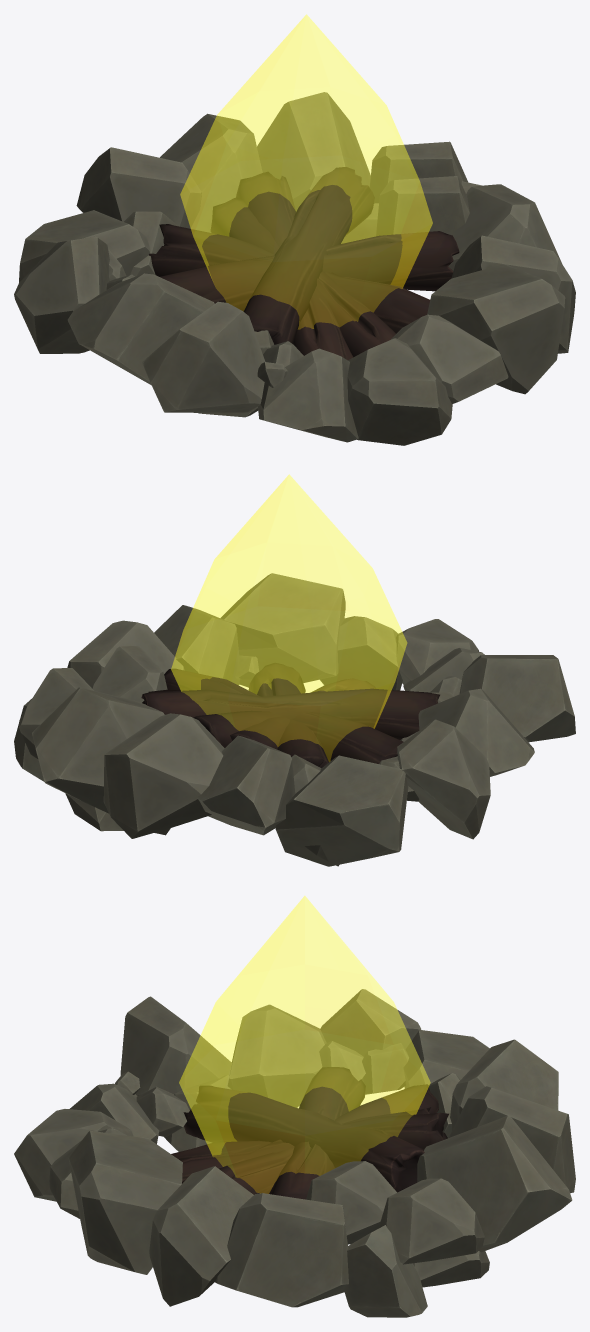
Rendered from Hoguera.glb.
The picture shows the model from 3 angles, top to bottom: view 1: azimuth 30°, elevation 25°; view 2: azimuth 150°, elevation 25°; view 3: azimuth 270°, elevation 25°; orthographic projection. The views are drawn at different scales.
Visible parts, largest first — view 1: Vela.001; view 2: Vela.001; view 3: Vela.001.
Part boxes in pixels (x1,y1,x2,y2): Vela.001: (14,14,575,445); Vela.001: (14,474,575,866); Vela.001: (14,896,575,1317).
Bounding box in the file's own units: 53.19 × 35.96 × 54.68.
3 materials, 3 textured.
